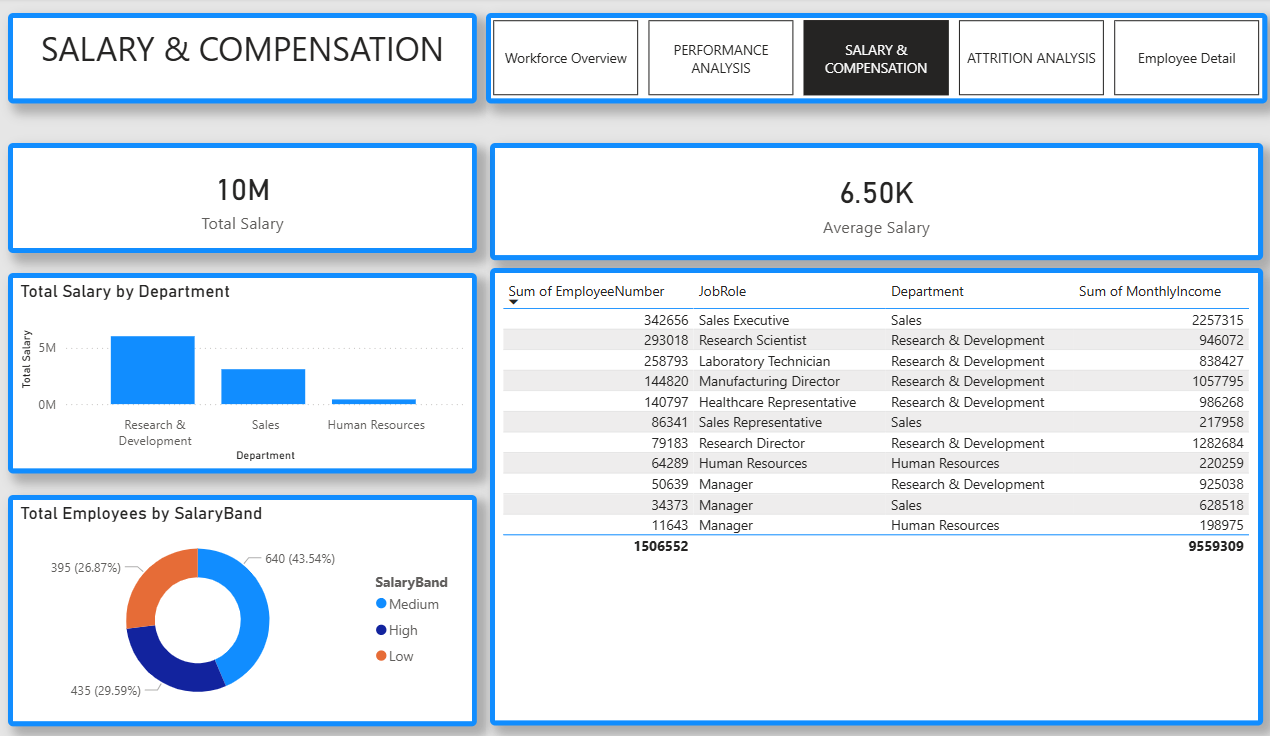

What the dashboard file says about the page in this screenshot:
{"tool":"powerbi","page":{"name":"SALARY & COMPENSATION","canvas":[1280,720],"ordinal":2},"visuals":[{"type":"card","fields":{"Values":["Measuretbl.Average Salary"]},"box":[480.5,141,751.9,113.8],"z":0},{"type":"card","fields":{"Values":["Measuretbl.Total Salary"]},"box":[11.7,141.1,456.2,107],"z":1000},{"type":"clusteredColumnChart","fields":{"Y":["Measuretbl.Total Salary"],"Category":["DimDepartment.Department"]},"box":[11.7,267.5,456.2,194.5],"z":2000},{"type":"donutChart","fields":{"Category":["FactEmployee.SalaryBand"],"Y":["Measuretbl.Total Employees"]},"box":[11.7,483.4,456.2,224.7],"z":3000},{"type":"tableEx","fields":{"Values":["Sum(FactEmployee.EmployeeNumber)","DimJobRole.JobRole","DimDepartment.Department","Sum(FactEmployee.MonthlyIncome)"]},"box":[480.5,262.6,751.9,445.5],"z":4000},{"type":"textbox","box":[11.7,14.6,456.2,87.5],"z":5000},{"type":"pageNavigator","box":[476.6,14.6,759.6,87.5],"z":6000}]}

Visuals, with their boxes in screenshot pixels (x1, y1, x2, y2), scaled from the page's 1280x720 canvas onto the 1270x736 screenshot:
card - Measuretbl.Average Salary: box(477, 144, 1223, 260)
card - Measuretbl.Total Salary: box(12, 144, 464, 254)
clusteredColumnChart - Measuretbl.Total Salary x DimDepartment.Department: box(12, 273, 464, 472)
donutChart - FactEmployee.SalaryBand x Measuretbl.Total Employees: box(12, 494, 464, 724)
tableEx - Sum(FactEmployee.EmployeeNumber) x DimJobRole.JobRole: box(477, 268, 1223, 724)
textbox: box(12, 15, 464, 104)
pageNavigator: box(473, 15, 1227, 104)
